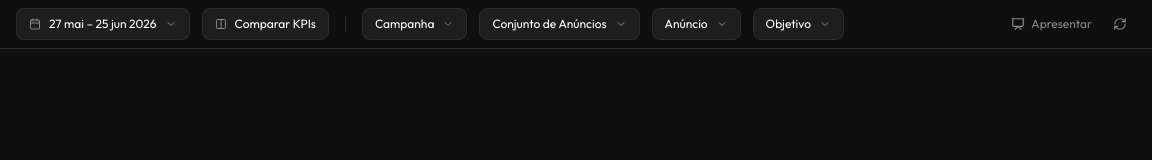
Test: FilterBar › seleção mostra botão limpar filtros
Click the button "Campanha" at (415, 24), box left=362, top=8, right=467, bottom=40
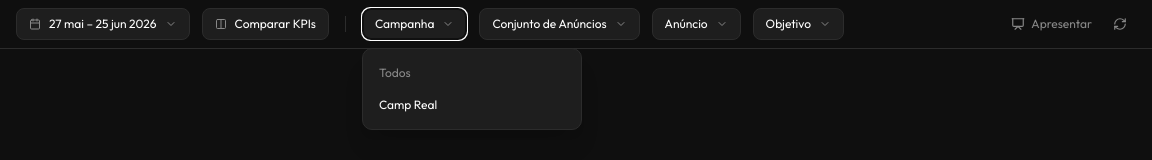
Click the button "Camp Real" at (472, 105), box left=363, top=89, right=581, bottom=121
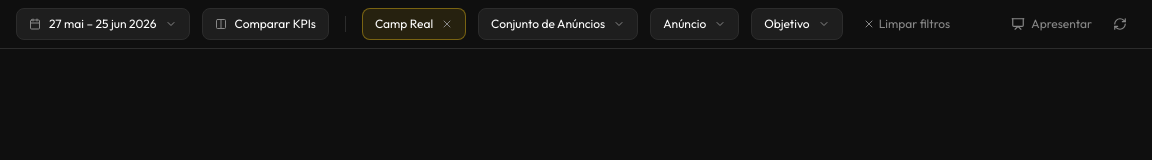
Expected: the button "Limpar filtros" is shown, left=855, top=8, right=958, bottom=40
